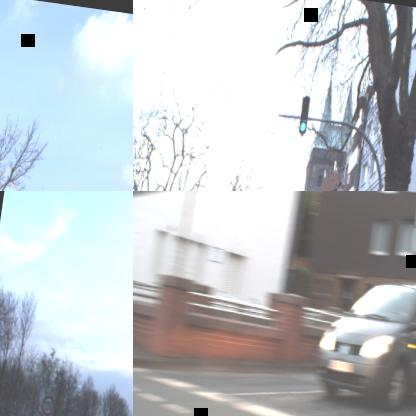speed limit 120: (39, 393, 56, 416)
